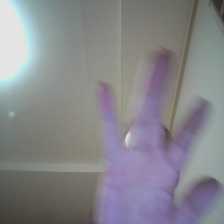hand: (86, 33, 223, 224)
